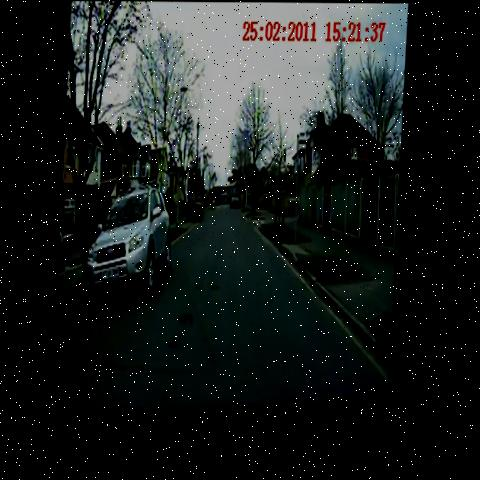pothole: (173, 307, 206, 337), (165, 335, 191, 359), (208, 275, 229, 295)
